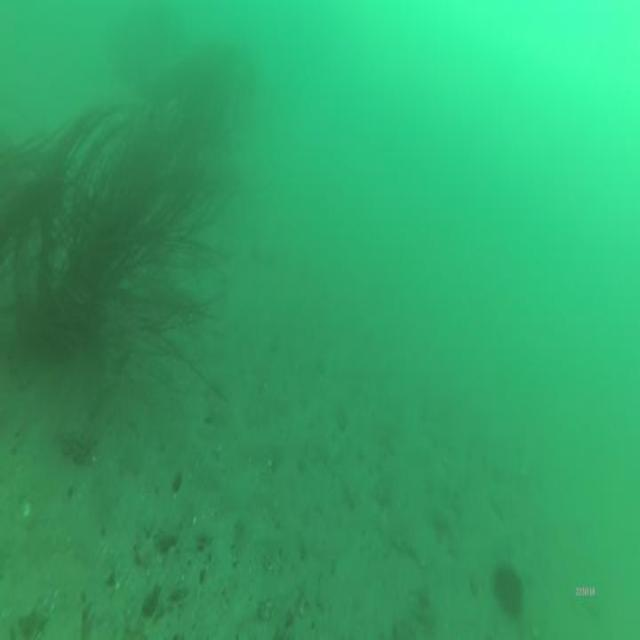echinus: (489, 558, 526, 622)
waterweeds: (49, 85, 219, 334), (0, 98, 124, 344)
